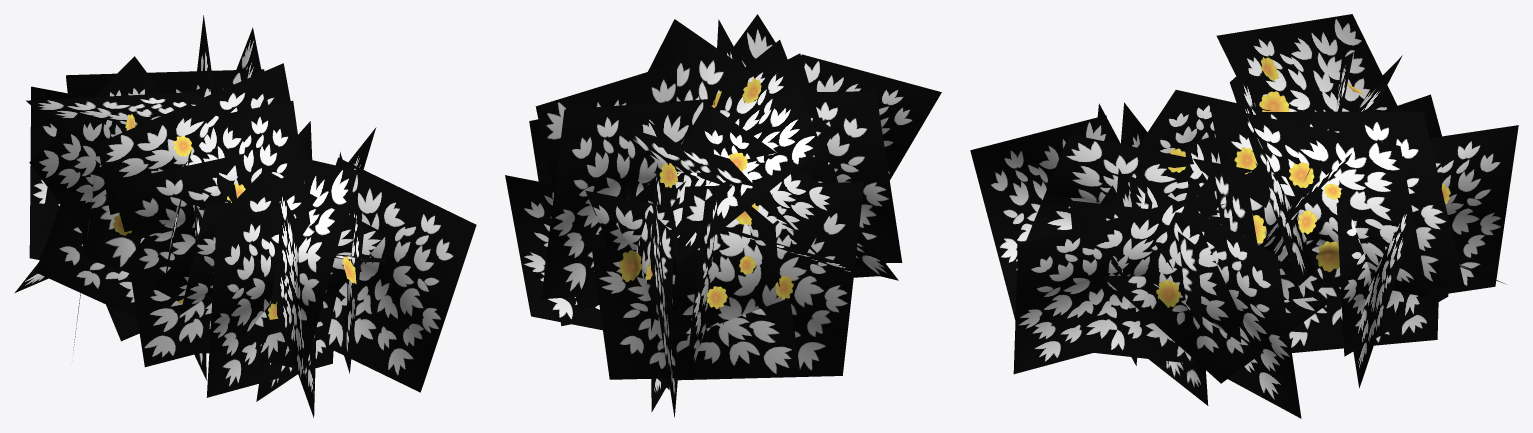
File: P_FlowerBush02.obj
3 views of the same model, side by side, from view 1: azimuth 30°, elevation 25°; view 2: azimuth 150°, elevation 25°; view 3: azimuth 270°, elevation 25° (orthographic). The views are drawn at different scales.
Bounding box in the file's own units: 3.46 × 2.79 × 4.62.
